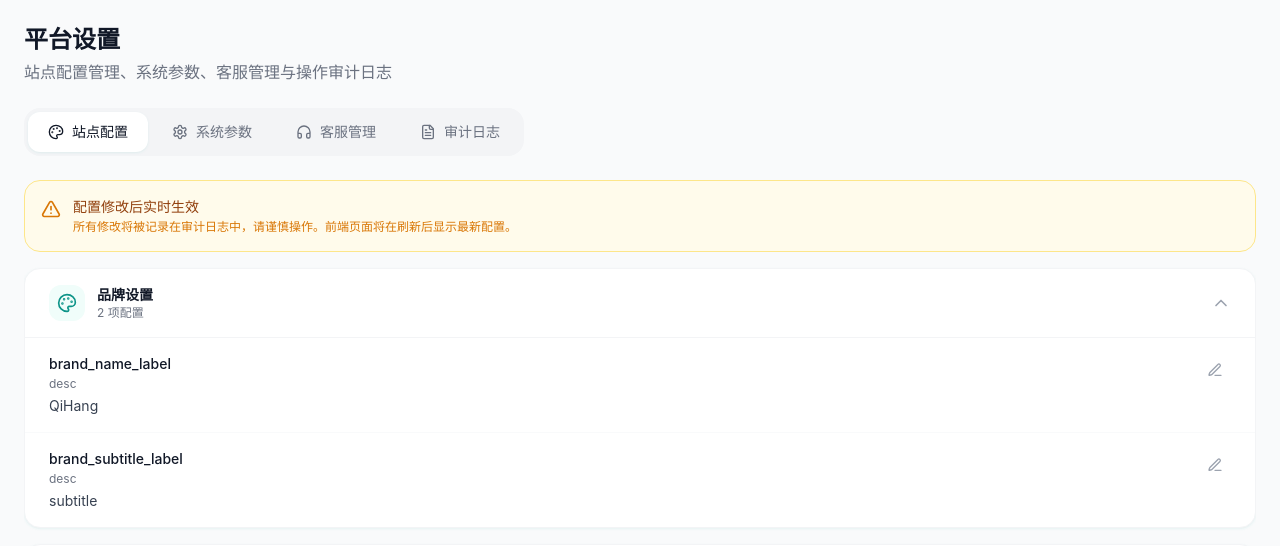
Scenario: AdminSettings - Completion Features › Section Toggles › section toggles render 5 items
The image size is (1280, 546).
Click the button "系统参数" at (212, 132), box [152,112,272,152]
(page scrolled)
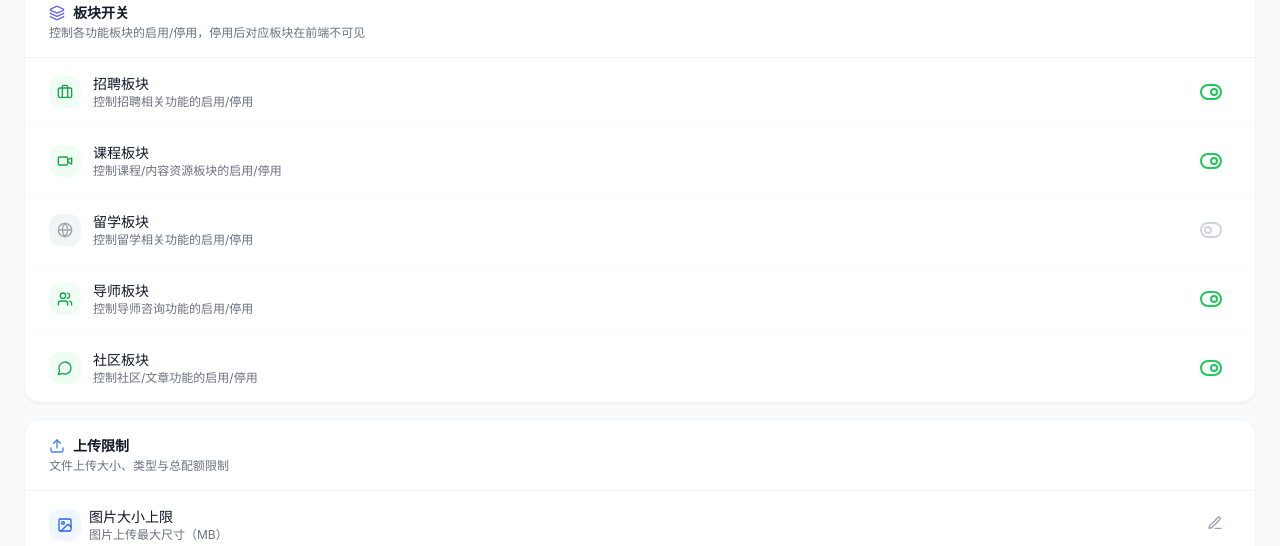
Now the heading "板块开关" is shown, box [73,3,129,23]
Now the text "招聘板块" is shown, box [93,75,149,92]
Now the text "课程板块" is shown, box [93,144,149,161]
